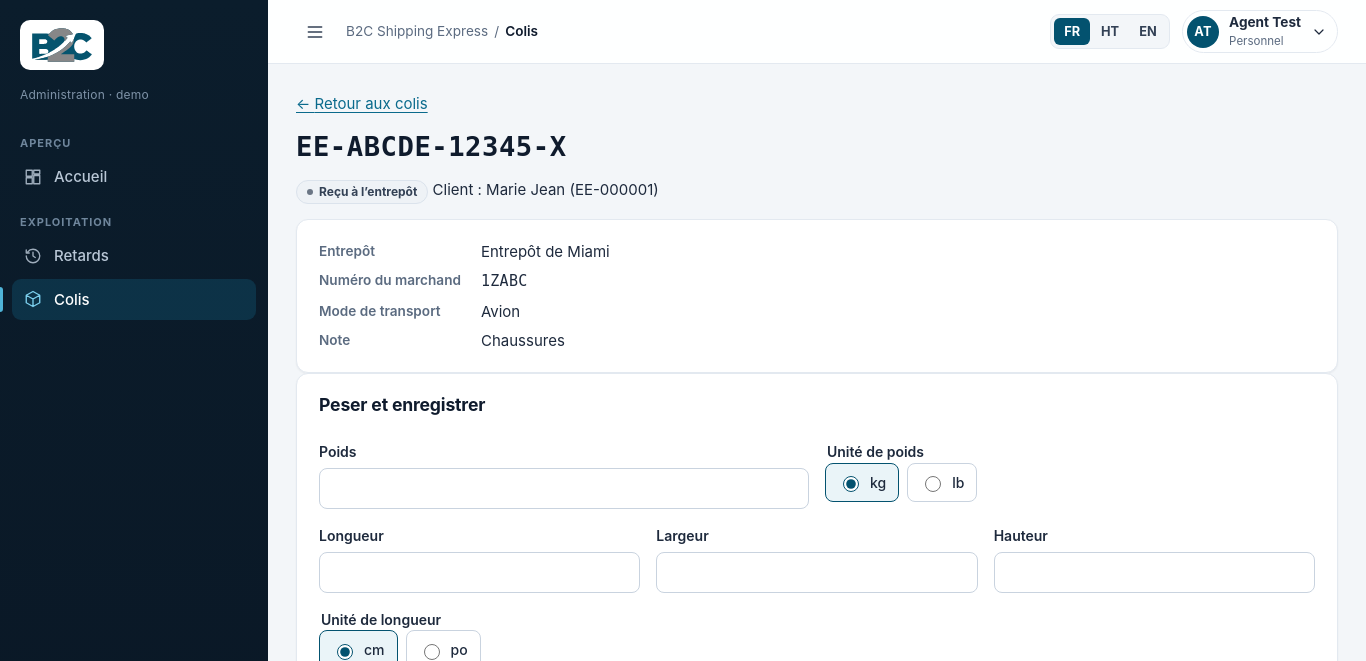
Test: fiche d’un colis (personnel) › pesée : la confirmation reste affichée quand le colis passe à « pesé » (le formulaire disparaît, pas le message)
In the field labelled "Poids": (564, 488) [319,468,809,509], type "2"
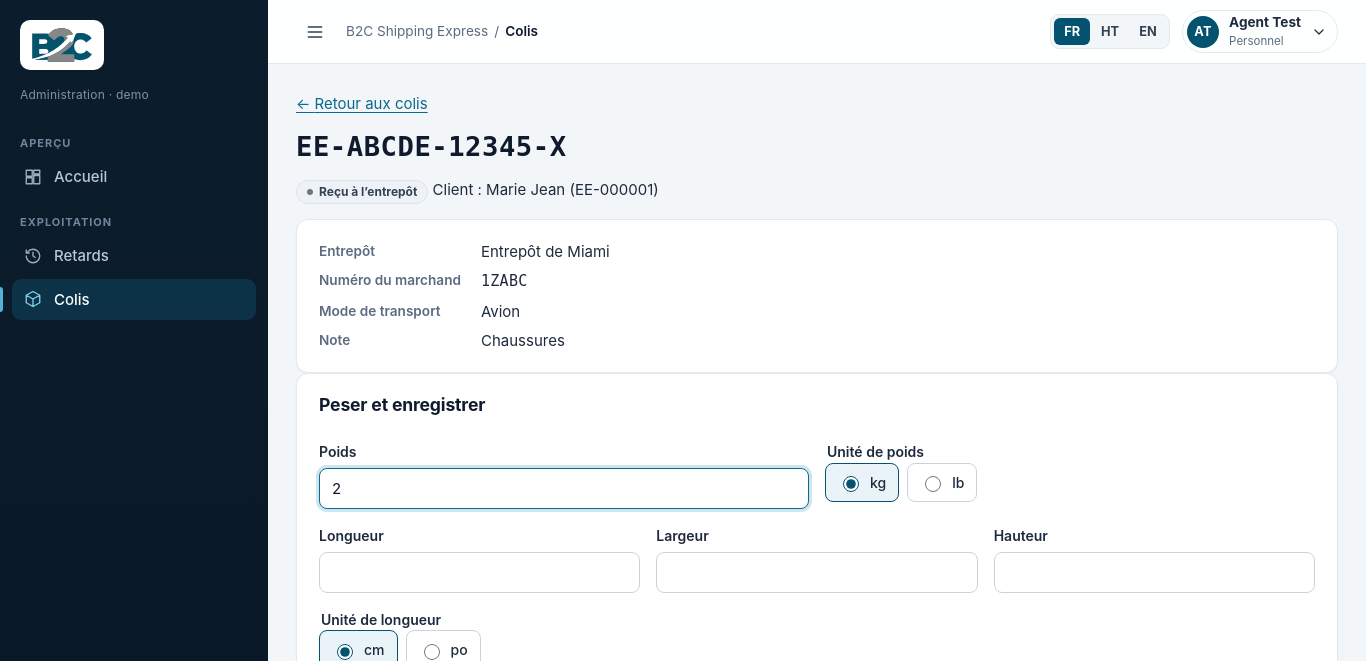
In the field labelled "Longueur": (480, 572) [319,552,640,593], type "40"
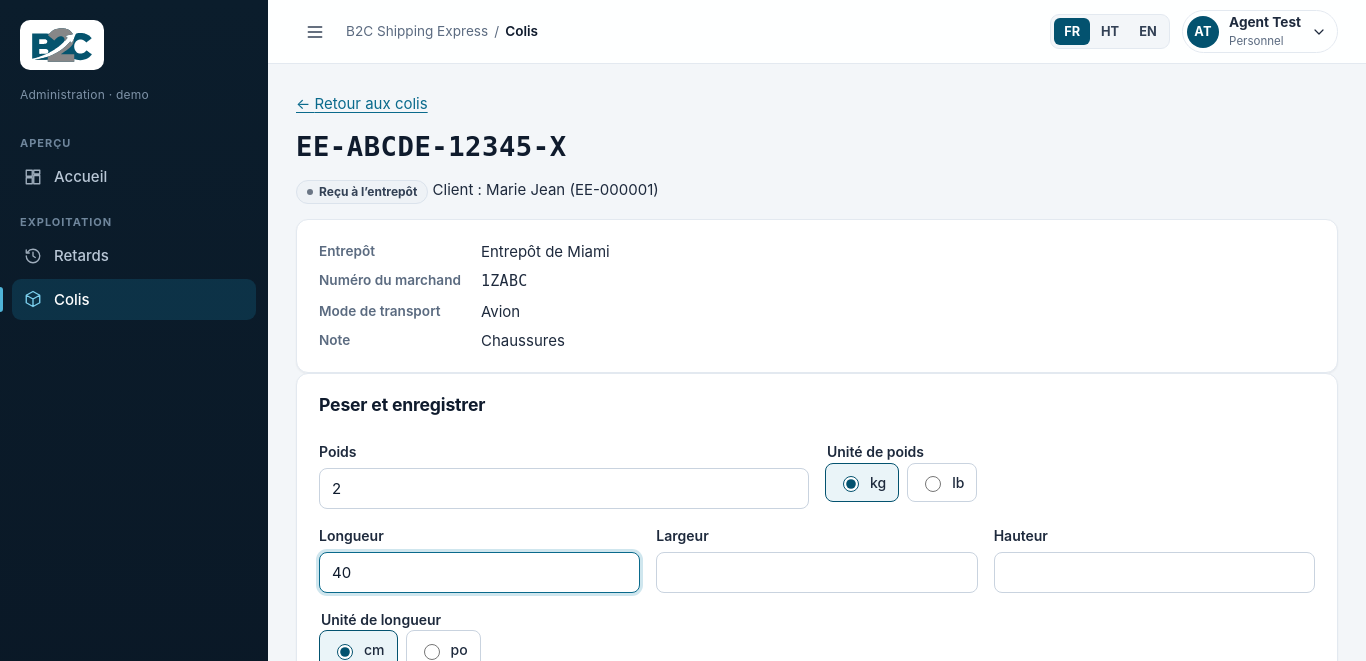
In the field labelled "Largeur": (817, 572) [656,552,978,593], type "30"
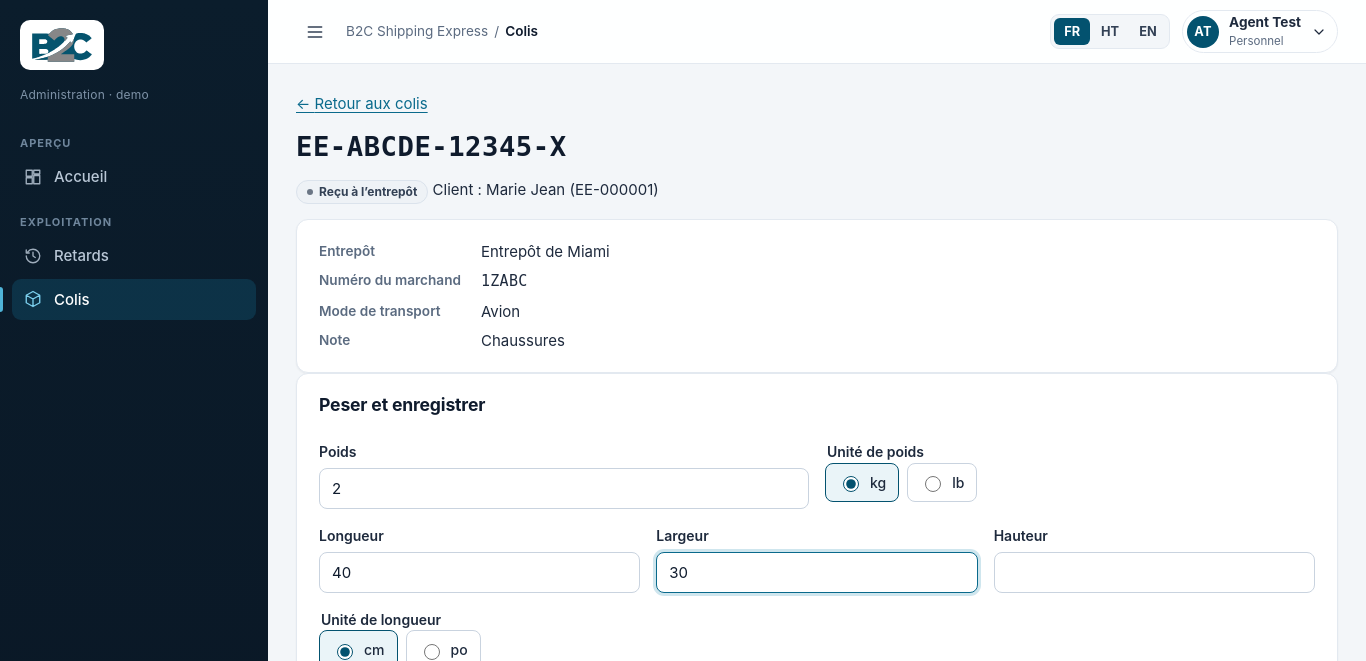
In the field labelled "Hauteur": (1154, 572) [994,552,1315,593], type "20"
(page scrolled)
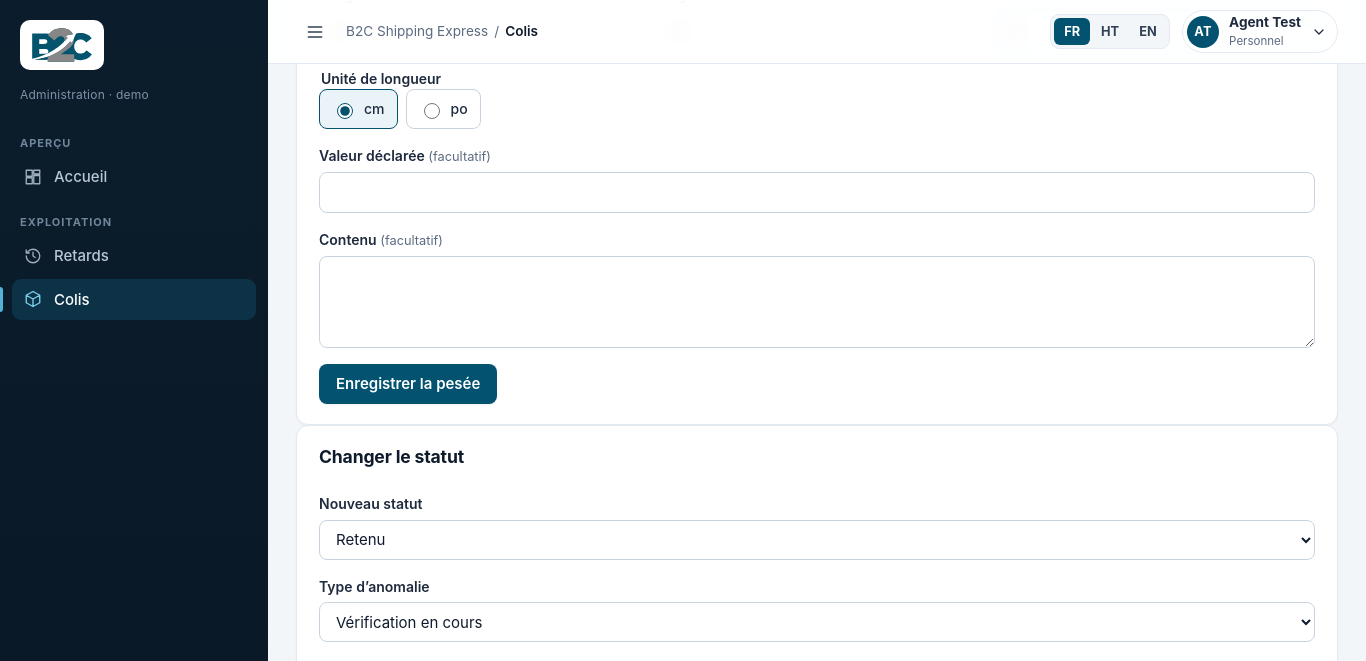
Click the button "Enregistrer la pesée": (408, 384) [319,364,497,404]
(page scrolled)
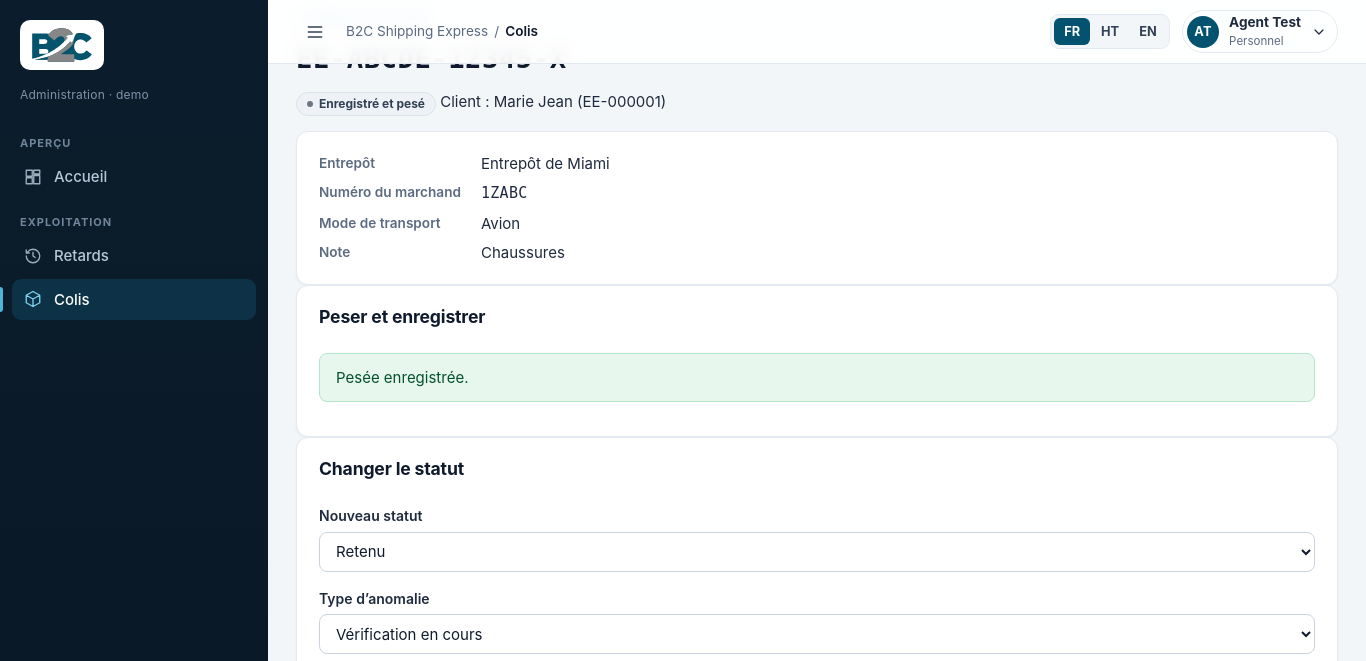
Expected: the text "Pesée enregistrée." is shown, [336,366,468,389]
